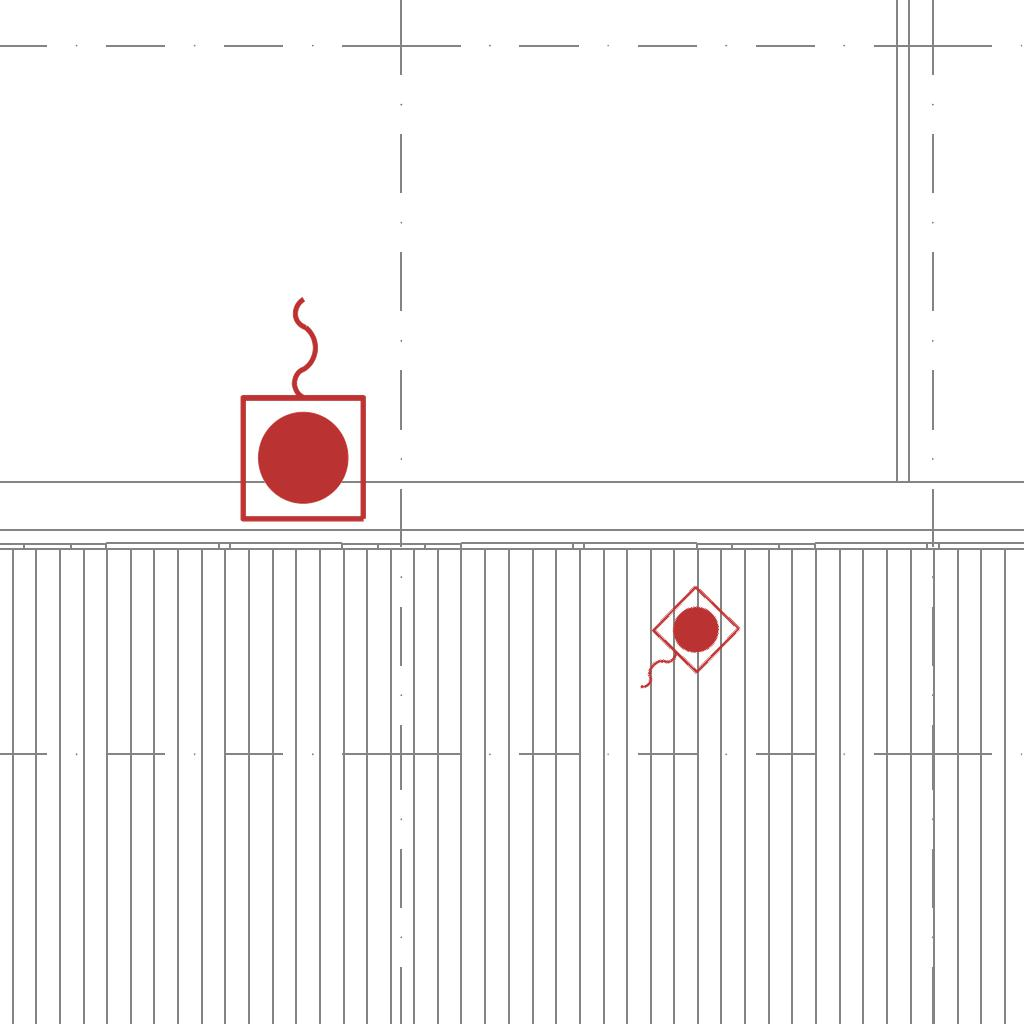Zugtaster: (233, 286, 377, 530), (609, 578, 747, 716)
